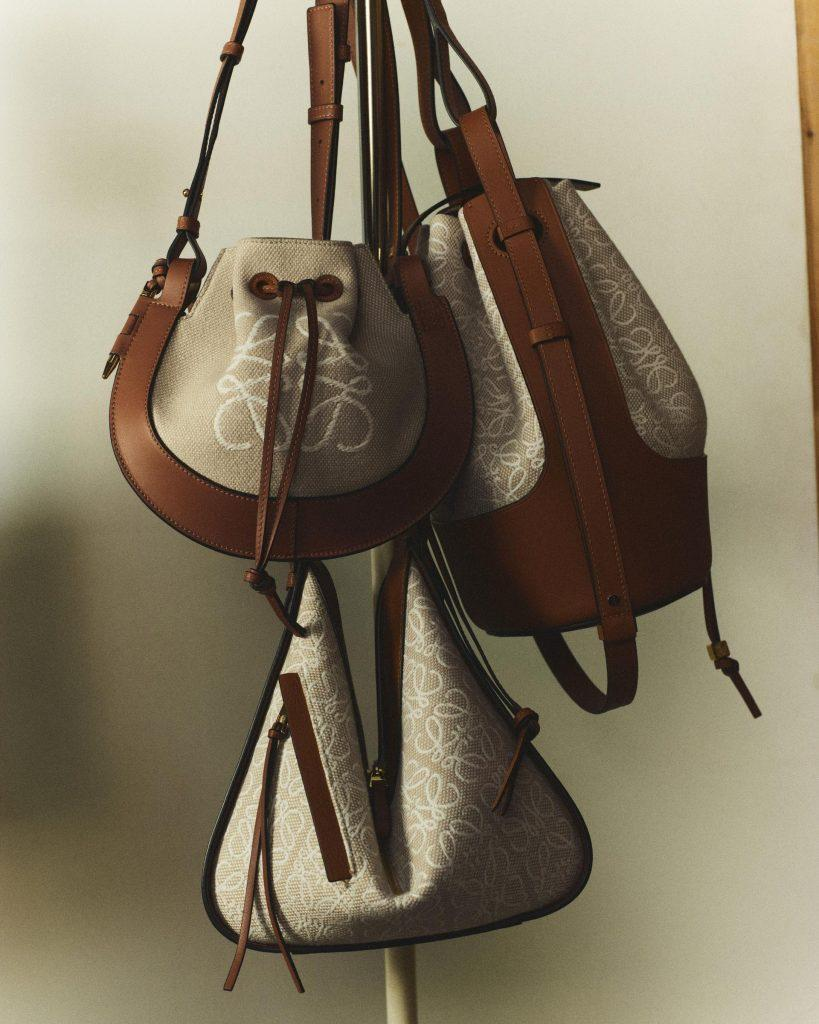LOEWE: (194, 298, 391, 462)
